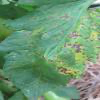Tomato Septoria leaf spot: (3, 2, 96, 97)
